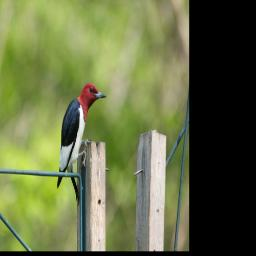Woodpecker: (56, 83, 107, 189)
